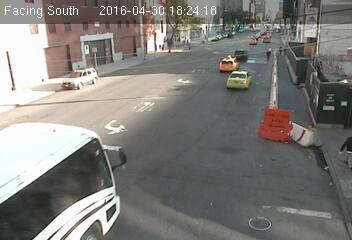neg: (123, 3, 142, 28), (108, 107, 125, 129), (273, 105, 288, 125), (60, 34, 72, 51), (238, 76, 248, 90), (186, 85, 192, 93)
pos: (264, 47, 274, 61), (277, 44, 285, 55), (282, 46, 289, 55)
